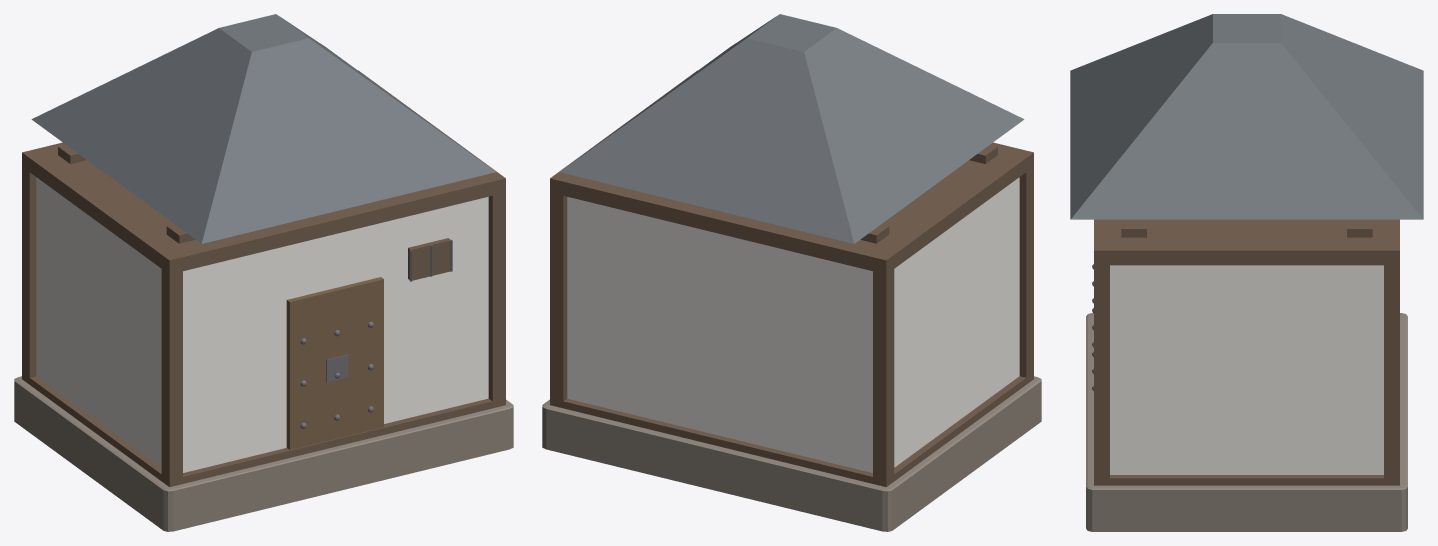
Rendered from kura_storage.glb.
3 renders of one model, left to right at view 1: azimuth 30°, elevation 25°; view 2: azimuth 150°, elevation 25°; view 3: azimuth 270°, elevation 25°, orthographic. The views are drawn at different scales.
Visible parts, largest first — view 1: kura_storage; view 2: kura_storage; view 3: kura_storage.
Boxes of the visible parts, box(x1,y1,x2,y2) form: kura_storage: box(14, 14, 513, 531); kura_storage: box(542, 14, 1041, 531); kura_storage: box(1070, 14, 1423, 531).
Bounding box in the file's own units: 2.6 × 2.85 × 2.19.
